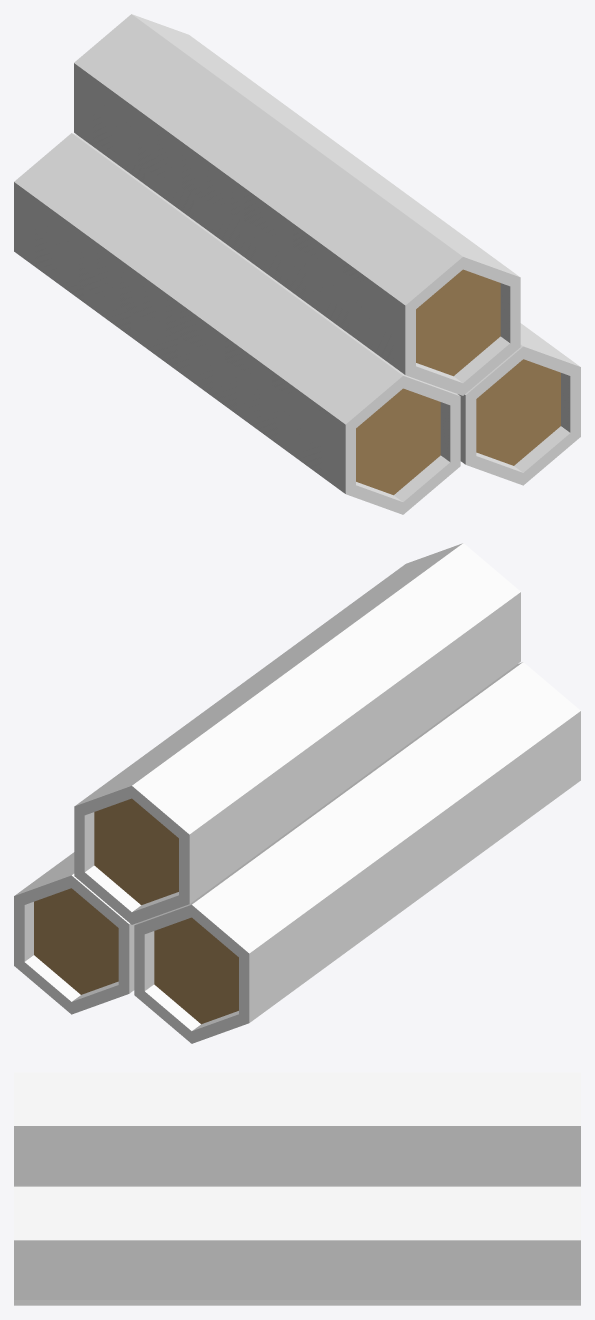
Rendered from QuarryLogs.fbx.
3 views of the same model, one above another, from view 1: azimuth 30°, elevation 25°; view 2: azimuth 150°, elevation 25°; view 3: azimuth 270°, elevation 25° (orthographic). The views are drawn at different scales.
Parts seen in each view (by area): view 1: QuarryLogs; view 2: QuarryLogs; view 3: QuarryLogs.
Part boxes in pixels (x1,y1,x2,y2): QuarryLogs: (14,14,580,514); QuarryLogs: (14,543,580,1043); QuarryLogs: (14,1072,580,1305).
Bounding box in the file's own units: 2.48 × 2.45 × 6.05.
